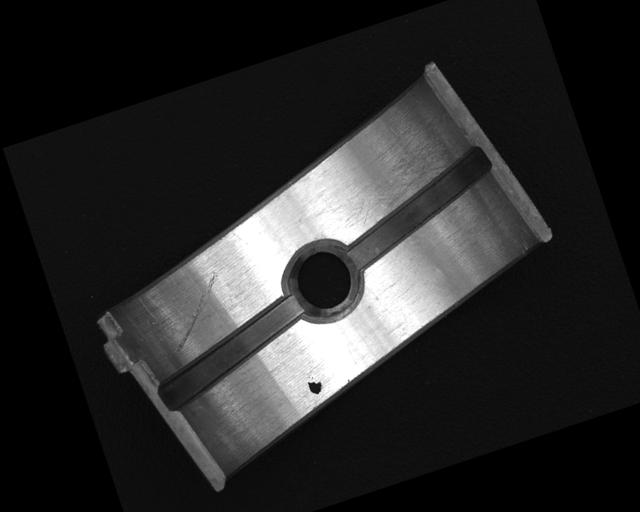blot: (304, 373, 324, 397)
gap: (327, 143, 508, 274), (140, 289, 319, 414)
hole: (275, 231, 371, 333)
nick: (155, 269, 236, 353)
scratch: (320, 111, 476, 234)
